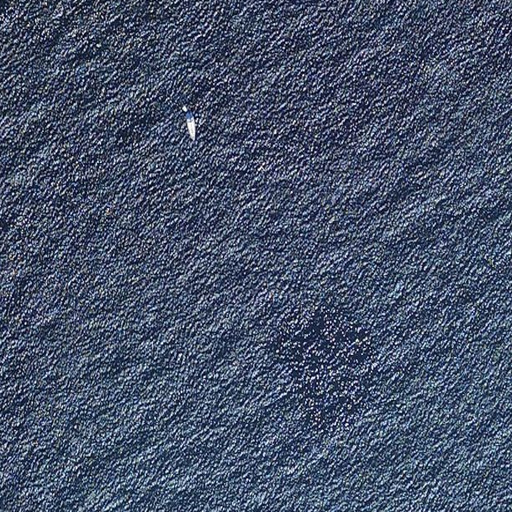ship: (184, 115, 198, 144)
